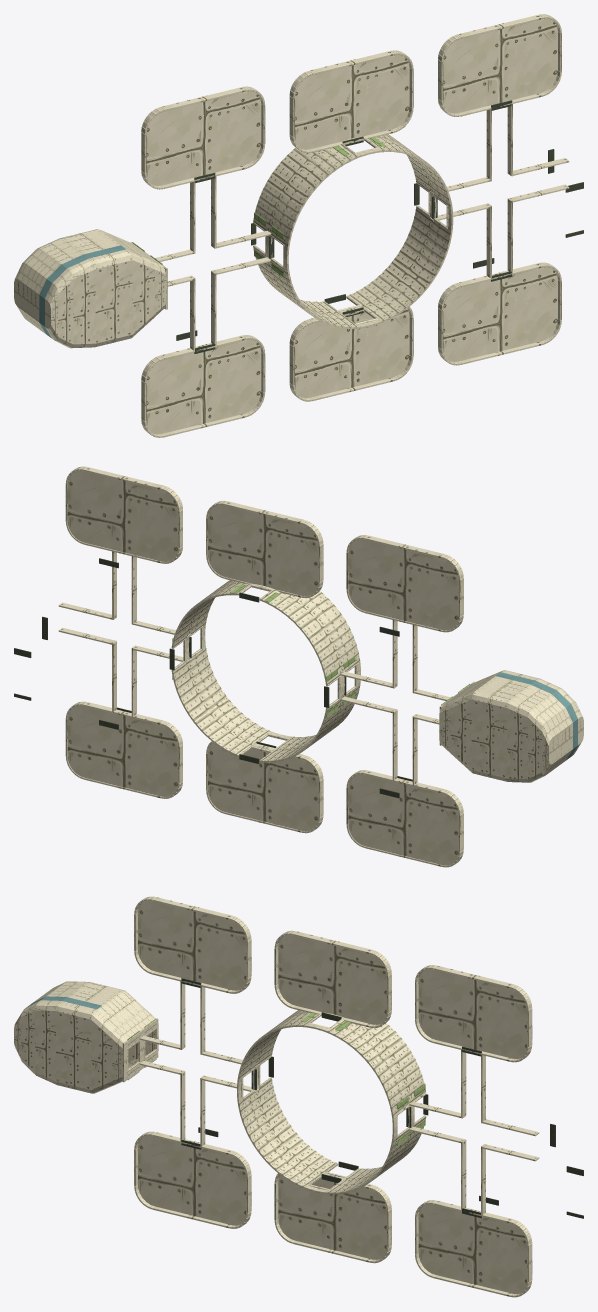
Rendered from ECHO7_30_Exterior_Unificado.obj.
3 renders of one model, top to bottom at view 1: azimuth 30°, elevation 25°; view 2: azimuth 150°, elevation 25°; view 3: azimuth 330°, elevation 25°, orthographic. The views are drawn at different scales.
Visible parts, largest first — view 1: ECHO7_30_Exterior_Unificado__Losa_entre_cubiertas_01, ECHO7_30_Exterior_Unificado__Losa_entre_cubiertas_02, ECHO7_30_Exterior_Unificado__Losa_entre_cubiertas_05, ECHO7_30_Exterior_Unificado__Losa_entre_cubiertas_03, ECHO7_30_Exterior_Unificado__Losa_entre_cubiertas_06, ECHO7_30_Exterior_Unificado__Losa_entre_cubiertas_04, ECHO7_30_Exterior_Unificado__Casco_doble_altura_73, ECHO7_30_Exterior_Unificado__Casco_doble_altura_49, ECHO7_30_Exterior_Unificado__Casco_doble_altura_97, ECHO7_30_Exterior_Unificado__Casco_doble_altura_25; view 2: ECHO7_30_Exterior_Unificado__Losa_entre_cubiertas_01, ECHO7_30_Exterior_Unificado__Losa_entre_cubiertas_05, ECHO7_30_Exterior_Unificado__Losa_entre_cubiertas_03, ECHO7_30_Exterior_Unificado__Losa_entre_cubiertas_02, ECHO7_30_Exterior_Unificado__Losa_entre_cubiertas_06, ECHO7_30_Exterior_Unificado__Losa_entre_cubiertas_04, ECHO7_30_Exterior_Unificado__Casco_doble_altura_85, ECHO7_30_Exterior_Unificado__Casco_doble_altura_61, ECHO7_30_Exterior_Unificado__Casco_doble_altura_110, ECHO7_30_Exterior_Unificado__Casco_doble_altura_37; view 3: ECHO7_30_Exterior_Unificado__Losa_entre_cubiertas_05, ECHO7_30_Exterior_Unificado__Losa_entre_cubiertas_01, ECHO7_30_Exterior_Unificado__Losa_entre_cubiertas_03, ECHO7_30_Exterior_Unificado__Losa_entre_cubiertas_02, ECHO7_30_Exterior_Unificado__Losa_entre_cubiertas_06, ECHO7_30_Exterior_Unificado__Losa_entre_cubiertas_04, ECHO7_30_Exterior_Unificado__Casco_doble_altura_73, ECHO7_30_Exterior_Unificado__Casco_doble_altura_49, ECHO7_30_Exterior_Unificado__Casco_doble_altura_97, ECHO7_30_Exterior_Unificado__Casco_doble_altura_25.
Part boxes in pixels (box(x1,y1,x2,y2)): ECHO7_30_Exterior_Unificado__Losa_entre_cubiertas_01: box(146, 91, 261, 185); ECHO7_30_Exterior_Unificado__Losa_entre_cubiertas_02: box(146, 339, 261, 434); ECHO7_30_Exterior_Unificado__Losa_entre_cubiertas_05: box(443, 18, 557, 113); ECHO7_30_Exterior_Unificado__Losa_entre_cubiertas_03: box(295, 55, 409, 149); ECHO7_30_Exterior_Unificado__Losa_entre_cubiertas_06: box(443, 267, 557, 361); ECHO7_30_Exterior_Unificado__Losa_entre_cubiertas_04: box(295, 308, 409, 397); ECHO7_30_Exterior_Unificado__Casco_doble_altura_73: box(95, 260, 132, 343); ECHO7_30_Exterior_Unificado__Casco_doble_altura_49: box(73, 269, 95, 344); ECHO7_30_Exterior_Unificado__Casco_doble_altura_97: box(132, 260, 154, 333); ECHO7_30_Exterior_Unificado__Casco_doble_altura_25: box(58, 279, 73, 343); ECHO7_30_Exterior_Unificado__Losa_entre_cubiertas_01: box(348, 539, 458, 630); ECHO7_30_Exterior_Unificado__Losa_entre_cubiertas_05: box(67, 471, 177, 561); ECHO7_30_Exterior_Unificado__Losa_entre_cubiertas_03: box(208, 505, 318, 596); ECHO7_30_Exterior_Unificado__Losa_entre_cubiertas_02: box(348, 774, 458, 865); ECHO7_30_Exterior_Unificado__Losa_entre_cubiertas_06: box(67, 706, 177, 796); ECHO7_30_Exterior_Unificado__Losa_entre_cubiertas_04: box(208, 742, 318, 831); ECHO7_30_Exterior_Unificado__Casco_doble_altura_85: box(471, 699, 506, 778); ECHO7_30_Exterior_Unificado__Casco_doble_altura_61: box(507, 708, 527, 779); ECHO7_30_Exterior_Unificado__Casco_doble_altura_110: box(450, 699, 471, 769); ECHO7_30_Exterior_Unificado__Casco_doble_altura_37: box(528, 718, 541, 778); ECHO7_30_Exterior_Unificado__Losa_entre_cubiertas_05: box(418, 969, 526, 1058); ECHO7_30_Exterior_Unificado__Losa_entre_cubiertas_01: box(138, 900, 246, 990); ECHO7_30_Exterior_Unificado__Losa_entre_cubiertas_03: box(278, 935, 386, 1024); ECHO7_30_Exterior_Unificado__Losa_entre_cubiertas_02: box(138, 1136, 246, 1225); ECHO7_30_Exterior_Unificado__Losa_entre_cubiertas_06: box(418, 1204, 526, 1293); ECHO7_30_Exterior_Unificado__Losa_entre_cubiertas_04: box(278, 1175, 386, 1259); ECHO7_30_Exterior_Unificado__Casco_doble_altura_73: box(56, 1011, 91, 1089); ECHO7_30_Exterior_Unificado__Casco_doble_altura_49: box(35, 1010, 55, 1081); ECHO7_30_Exterior_Unificado__Casco_doble_altura_97: box(91, 1020, 112, 1089); ECHO7_30_Exterior_Unificado__Casco_doble_altura_25: box(21, 1010, 34, 1071).
Bounding box in the file's own units: 76.5 × 42.24 × 8.7.
5 materials, 5 textured.
